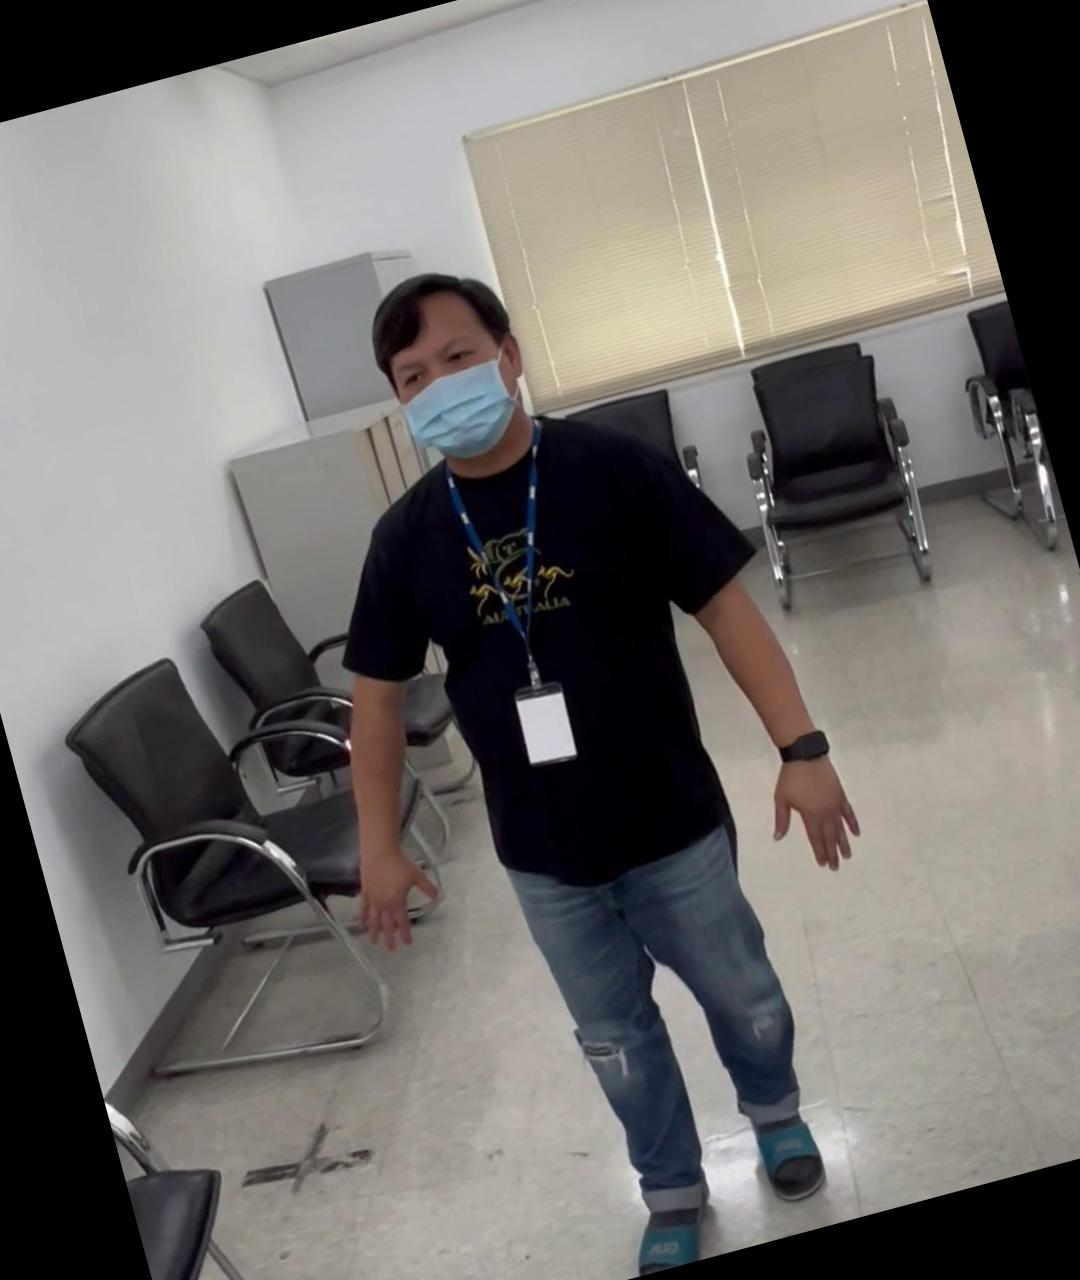No-gloves: (750, 734, 873, 888), (331, 819, 452, 965)
